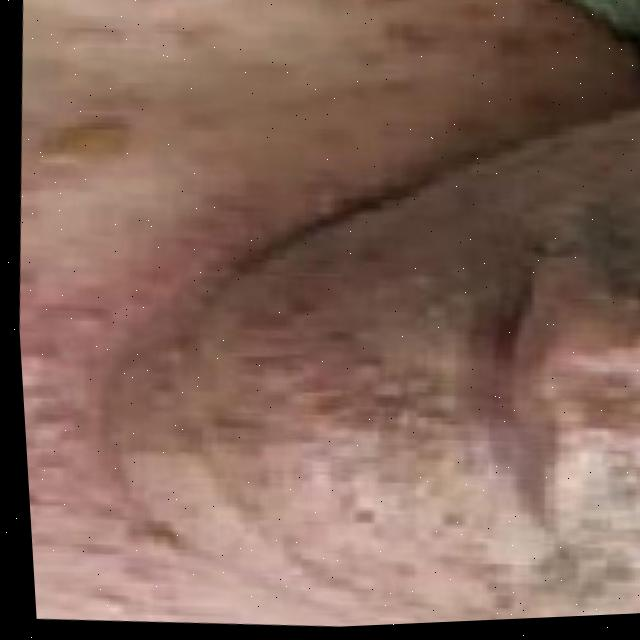Eczema: (248, 124, 640, 597), (2, 27, 247, 553)
